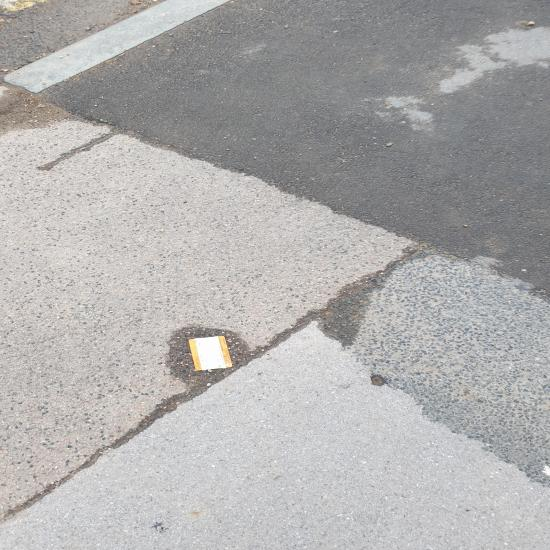Normal paper: (188, 336, 233, 371)
